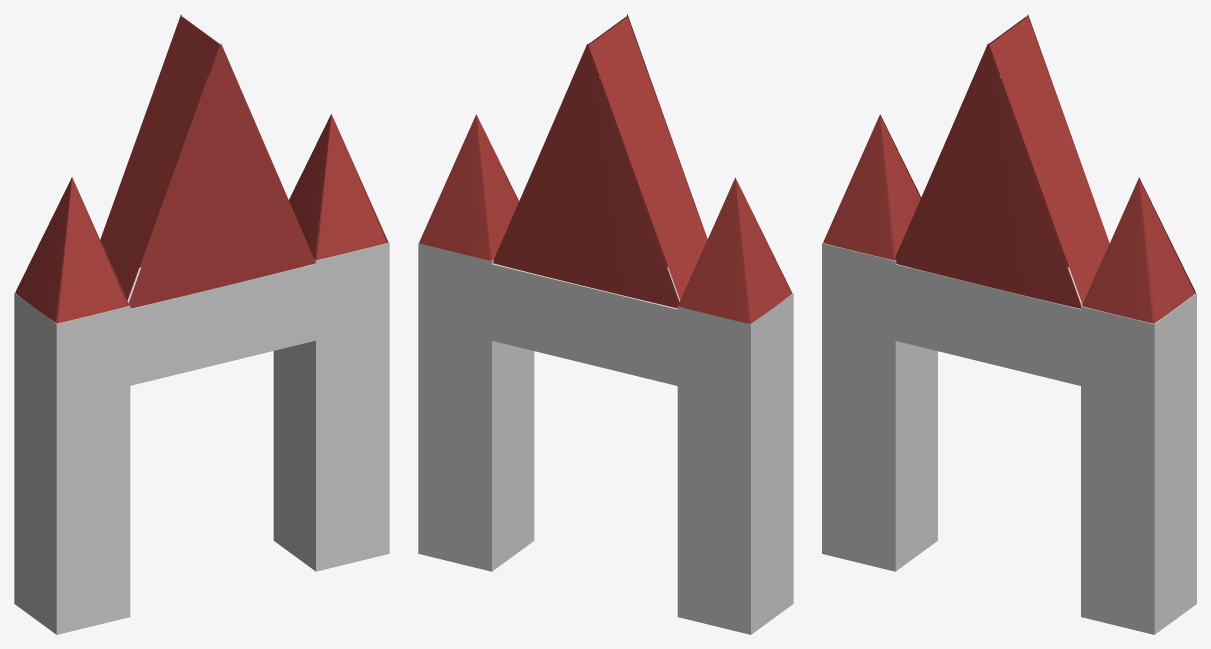
File: entrance.fbx
3 renders of one model, left to right at view 1: azimuth 30°, elevation 25°; view 2: azimuth 150°, elevation 25°; view 3: azimuth 330°, elevation 25°, orthographic.
Parts seen in each view (by area): view 1: Cube.001, Cube, Cone.009, Cube.002, Plane, Cone.001, Cone.006, Cone.004, Cone.003; view 2: Cube.001, Cube, Cone.008, Cube.002, Plane, Cone, Cone.007, Cone.004, Cone.003, Cone.009; view 3: Cube, Cube.001, Cone.009, Cube.002, Plane.001, Cone.006, Cone.001, Cone.002, Cone.005.
Boxes of the visible parts, x1,y1,x2,y2 form: Cube.001: [14, 293, 130, 634]; Cube: [273, 242, 389, 571]; Cone.009: [128, 43, 315, 308]; Cube.002: [127, 263, 316, 385]; Plane: [100, 16, 219, 300]; Cone.001: [315, 114, 388, 260]; Cone.006: [56, 178, 128, 323]; Cone.004: [15, 177, 72, 323]; Cone.003: [289, 114, 331, 260]; Cube.001: [677, 293, 793, 634]; Cube: [418, 243, 534, 571]; Cone.008: [493, 43, 679, 308]; Cube.002: [492, 263, 680, 385]; Plane: [588, 17, 707, 300]; Cone: [419, 114, 491, 260]; Cone.007: [678, 178, 751, 323]; Cone.004: [735, 178, 791, 323]; Cone.003: [476, 114, 518, 260]; Cone.009: [600, 14, 707, 267]; Cube: [1081, 293, 1196, 634]; Cube.001: [822, 243, 937, 571]; Cone.009: [895, 44, 1081, 308]; Cube.002: [895, 264, 1082, 385]; Plane.001: [989, 16, 1109, 303]; Cone.006: [823, 114, 895, 260]; Cone.001: [1082, 177, 1154, 323]; Cone.002: [1138, 178, 1195, 323]; Cone.005: [879, 115, 920, 260].
Bounding box in the file's own units: 1945 × 3075 × 433.
